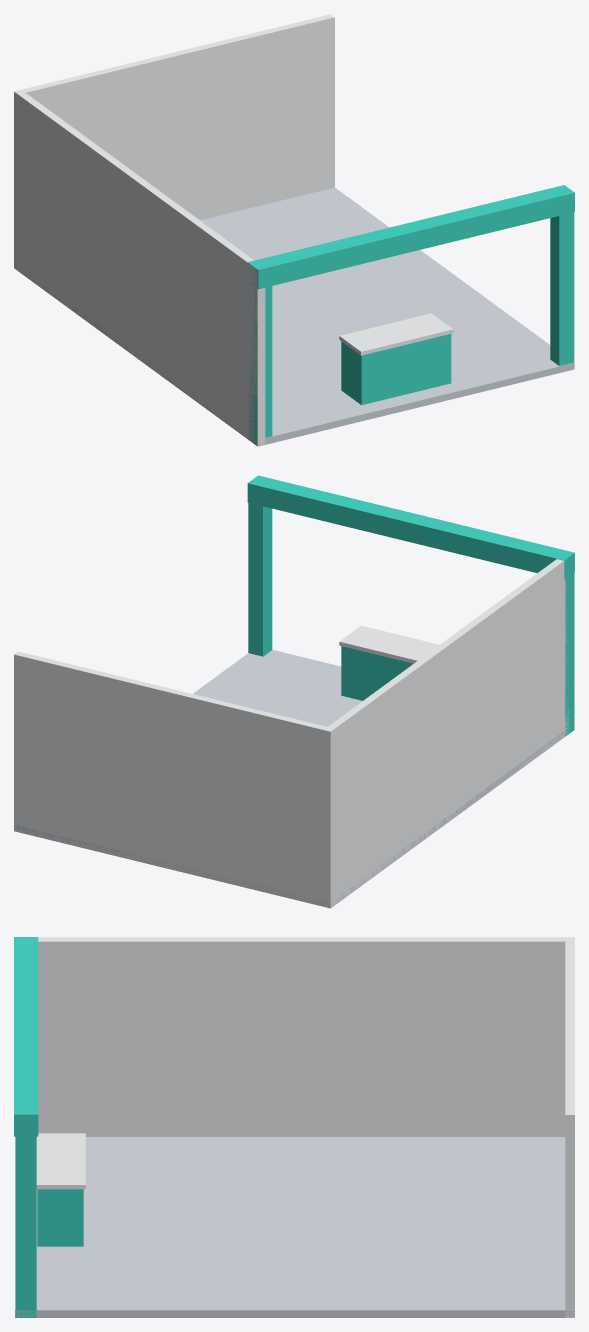
3 renders of one model, top to bottom at view 1: azimuth 30°, elevation 25°; view 2: azimuth 150°, elevation 25°; view 3: azimuth 270°, elevation 25°, orthographic. The views are drawn at different scales.
Visible parts, largest first — view 1: Exhibition Booth Concept; view 2: Exhibition Booth Concept; view 3: Exhibition Booth Concept.
Boxes of the visible parts, x1=… form: Exhibition Booth Concept: x1=14, y1=14, x2=574, y2=446; Exhibition Booth Concept: x1=14, y1=475, x2=574, y2=908; Exhibition Booth Concept: x1=14, y1=937, x2=574, y2=1317.
Bounding box in the file's own units: 6 × 3.2 × 8.01.
